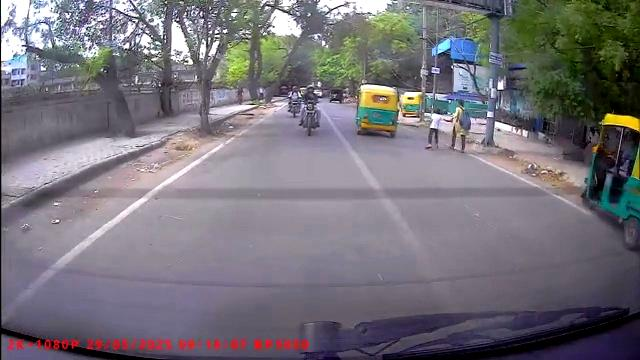motorcycle_with_helmet: (298, 81, 323, 137)
